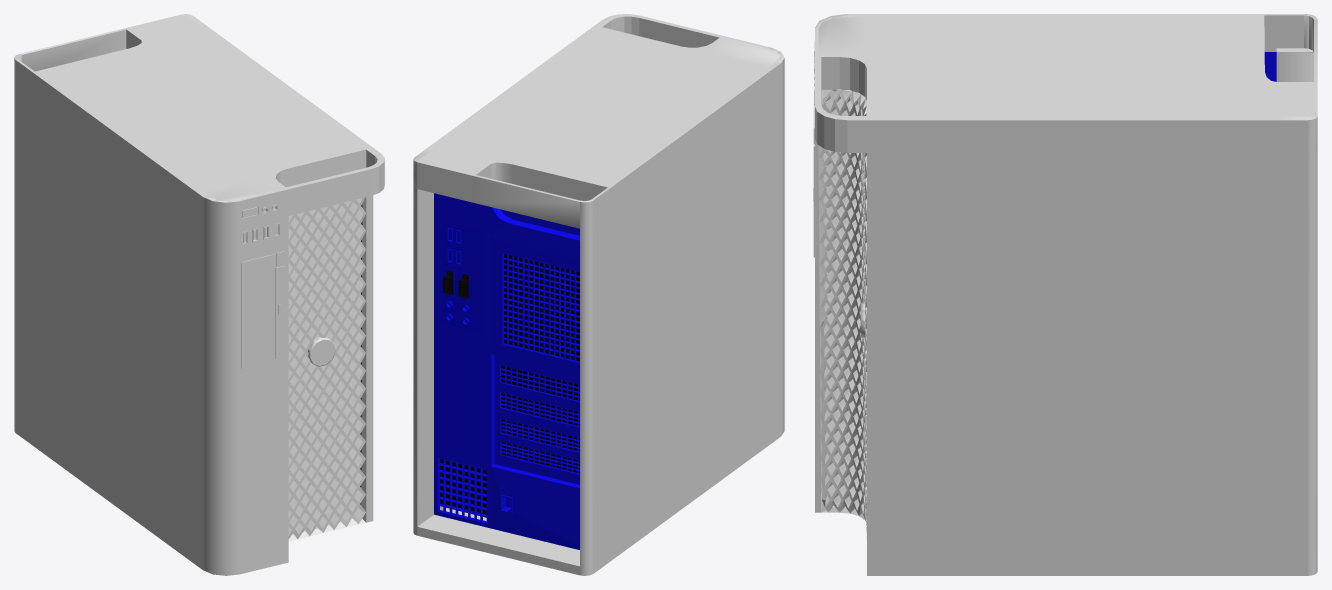
Rendered from Pc Iut.fbx.
3 views of the same model, side by side, from view 1: azimuth 30°, elevation 25°; view 2: azimuth 150°, elevation 25°; view 3: azimuth 270°, elevation 25° (orthographic). The views are drawn at different scales.
Visible parts, largest first — view 1: BaseTower, ConnecticFrontPlate, FrontPlate, FrontHandle, BackHandle; view 2: BaseTower, BackPlate, BlackPlate, BackHandle, BackPlateGrid1, ConnecticFrontPlate, ConnecticBackPlate, BackPlateGrid3, FrontHandle, BackPlateGrid2; view 3: BaseTower, FrontPlate, FrontHandle, ConnecticFrontPlate, BackHandle.
Boxes of the visible parts, x1,y1,x2,y2 form: BaseTower: (14, 14, 373, 563); ConnecticFrontPlate: (195, 188, 288, 575); FrontPlate: (288, 197, 366, 541); FrontHandle: (275, 148, 384, 215); BackHandle: (14, 28, 141, 94); BaseTower: (413, 25, 779, 575); BackPlate: (434, 193, 579, 549); BlackPlate: (440, 253, 579, 517); BackHandle: (474, 162, 609, 229); BackPlateGrid1: (502, 253, 579, 362); ConnecticFrontPlate: (721, 35, 784, 441); ConnecticBackPlate: (441, 221, 484, 333); BackPlateGrid3: (499, 365, 579, 474); FrontHandle: (595, 14, 721, 47); BackPlateGrid2: (437, 458, 486, 523); BaseTower: (818, 14, 1317, 575); FrontPlate: (818, 89, 866, 538); FrontHandle: (815, 57, 866, 152); ConnecticFrontPlate: (813, 14, 866, 512); BackHandle: (1264, 14, 1317, 81).
Size of the model in its own units: 100 by 200 by 201.
